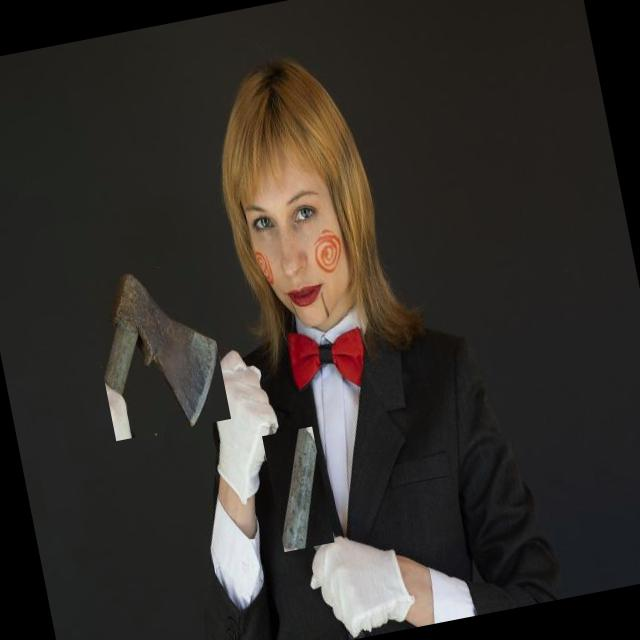Axe: (106, 275, 217, 426), (283, 429, 317, 549)
